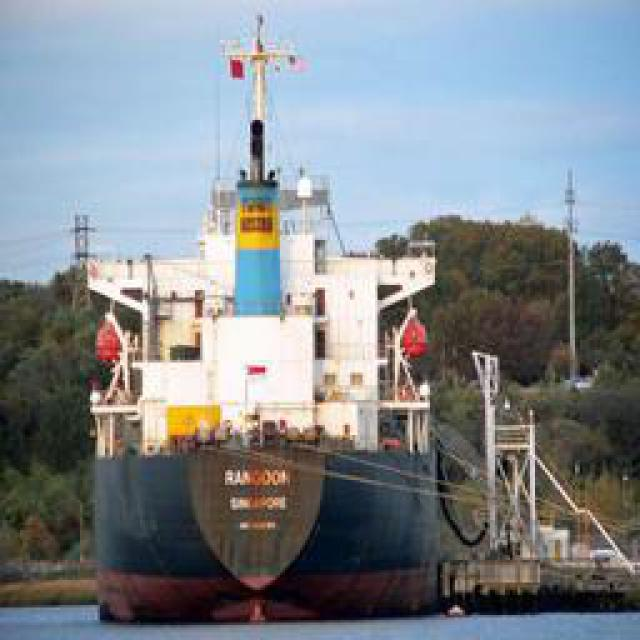Ship: (90, 4, 488, 637)
